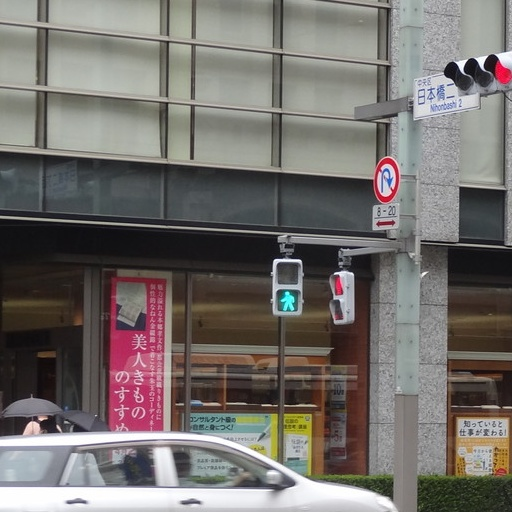Pedestrian_Signal_Blue: (262, 241, 310, 327)
Pedestrian_Signal_Red: (329, 263, 359, 324)
Traffic_Signal_Red: (423, 41, 510, 96)
